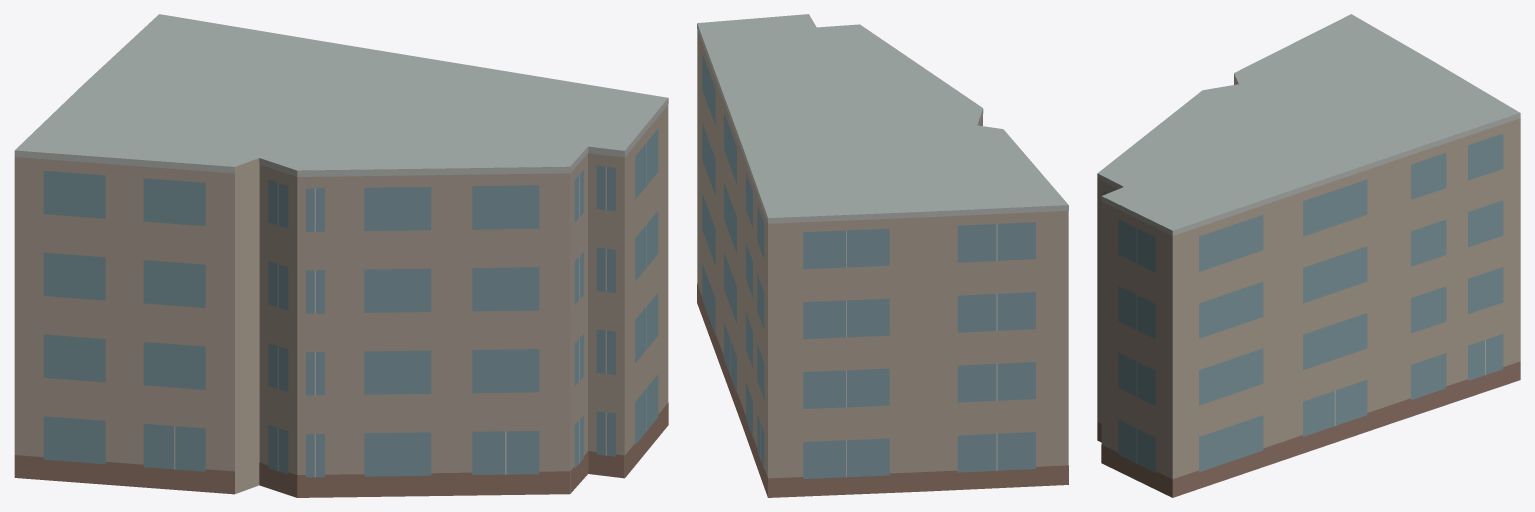
The model's file is survey-upis-32778281.glb.
The picture shows the model from 3 angles, left to right: view 1: azimuth 30°, elevation 25°; view 2: azimuth 150°, elevation 25°; view 3: azimuth 270°, elevation 25°; orthographic projection. The views are drawn at different scales.
Parts seen in each view (by area): view 1: survey-upis-32778281.tmp; view 2: survey-upis-32778281.tmp; view 3: survey-upis-32778281.tmp.
Boxes of the visible parts, bbox=[...] form: survey-upis-32778281.tmp: bbox=[14, 14, 668, 497]; survey-upis-32778281.tmp: bbox=[697, 14, 1068, 497]; survey-upis-32778281.tmp: bbox=[1097, 14, 1520, 497].
Size of the model in its own units: 21.24 by 12.2 by 17.52.
